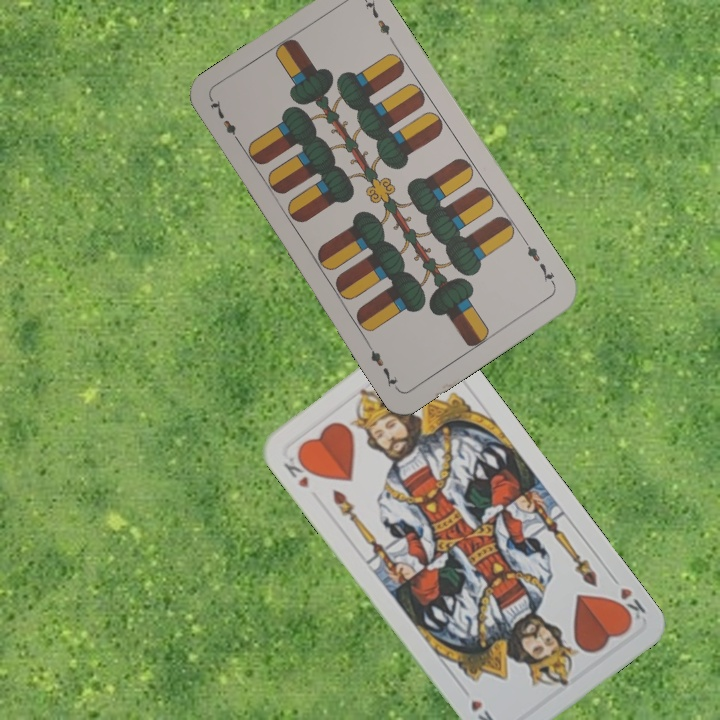E7: (206, 96, 245, 148), (520, 236, 558, 288)
HK: (606, 570, 648, 627), (279, 449, 317, 491)
